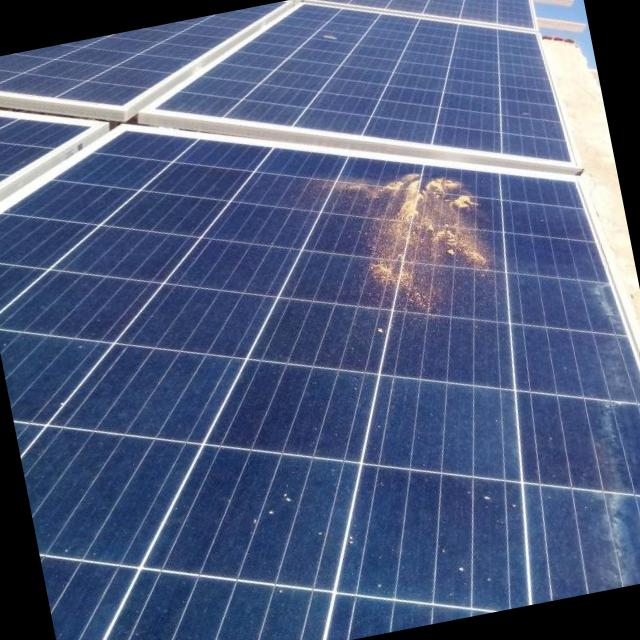faulty: (0, 136, 640, 640), (304, 19, 353, 62)
